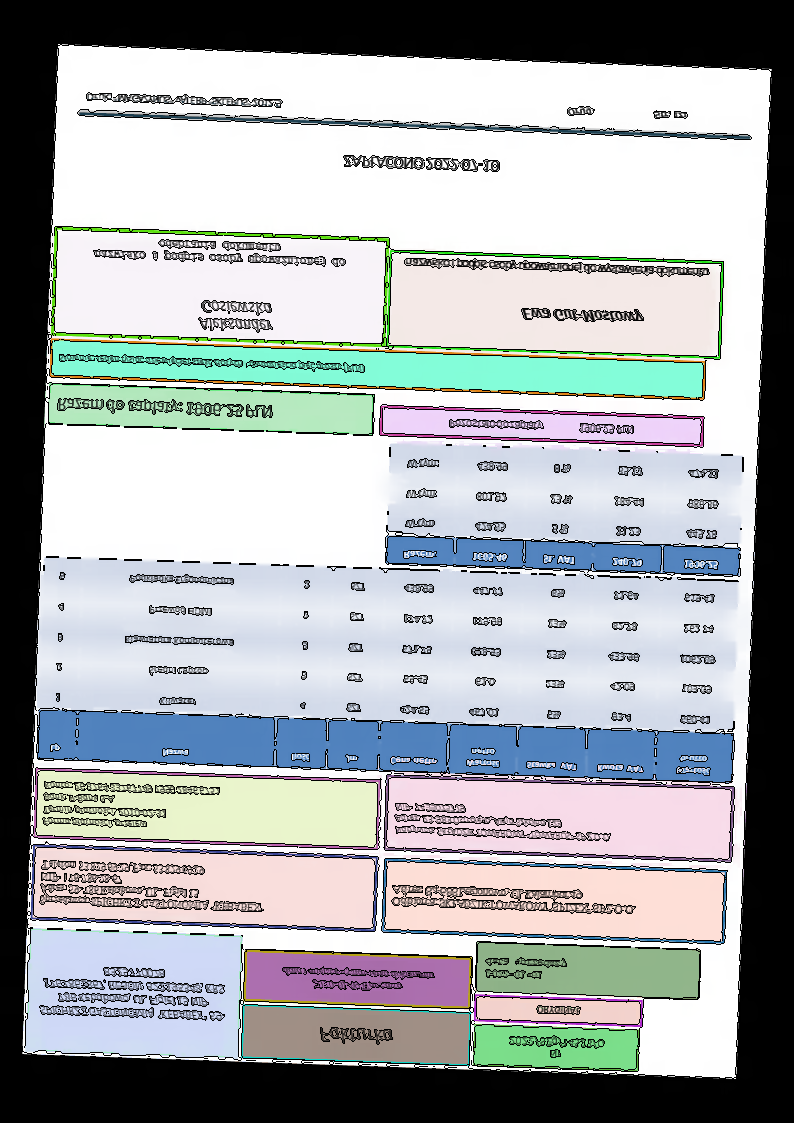Table: (35, 555, 740, 784), (384, 443, 744, 577)
TextBox: (37, 857, 268, 916), (34, 961, 229, 1024), (39, 779, 223, 834), (391, 800, 614, 844), (388, 882, 637, 918), (91, 235, 346, 270), (402, 254, 710, 280), (57, 352, 366, 375), (55, 394, 274, 422), (280, 964, 436, 995), (82, 90, 284, 110), (340, 151, 501, 176), (448, 417, 634, 437), (519, 302, 646, 327), (196, 297, 278, 335), (506, 1033, 606, 1063), (483, 954, 569, 983), (564, 105, 690, 123), (316, 1023, 394, 1046), (533, 1004, 582, 1018)
